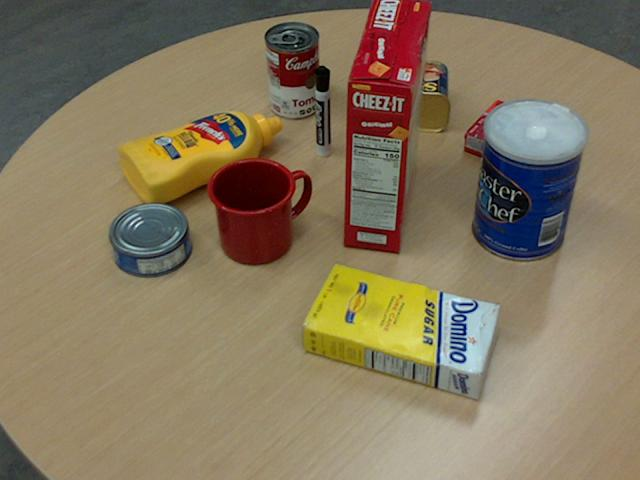cracker_box: (342, 0, 432, 251)
gelatin_box: (463, 98, 549, 167)
large_marker: (314, 65, 329, 156)
master_chef_can: (472, 98, 586, 262)
mug: (205, 156, 309, 263)
mustard_bottle: (117, 110, 281, 204)
potted_meat_can: (368, 59, 451, 132)
sugar_box: (299, 264, 501, 400)
tomato_soup_can: (265, 19, 320, 116)
tuna_fish_can: (107, 201, 190, 275)
